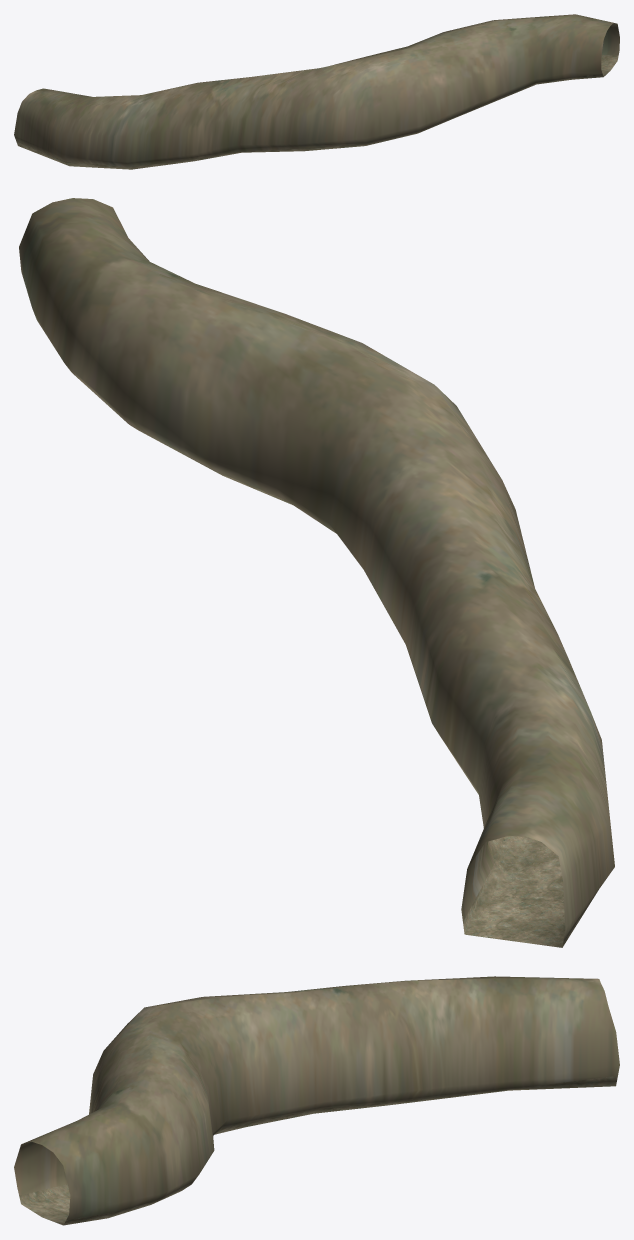
Rendered from EKH_GROTTO_PS_GR_TUNNEL02.fbx.
3 views of the same model, one above another, from view 1: azimuth 30°, elevation 25°; view 2: azimuth 150°, elevation 25°; view 3: azimuth 270°, elevation 25° (orthographic). The views are drawn at different scales.
Parts seen in each view (by area): view 1: EKH_GROTTO_PS_GR_TUNNEL02; view 2: EKH_GROTTO_PS_GR_TUNNEL02; view 3: EKH_GROTTO_PS_GR_TUNNEL02.
Part boxes in pixels (left/top/right/bottom): EKH_GROTTO_PS_GR_TUNNEL02: left=14, top=14, right=619, bottom=169; EKH_GROTTO_PS_GR_TUNNEL02: left=19, top=198, right=614, bottom=947; EKH_GROTTO_PS_GR_TUNNEL02: left=14, top=976, right=619, bottom=1225.
Bounding box in the file's own units: 196952 × 64179 × 146379.
Materials: 1 (1 with a texture image).
